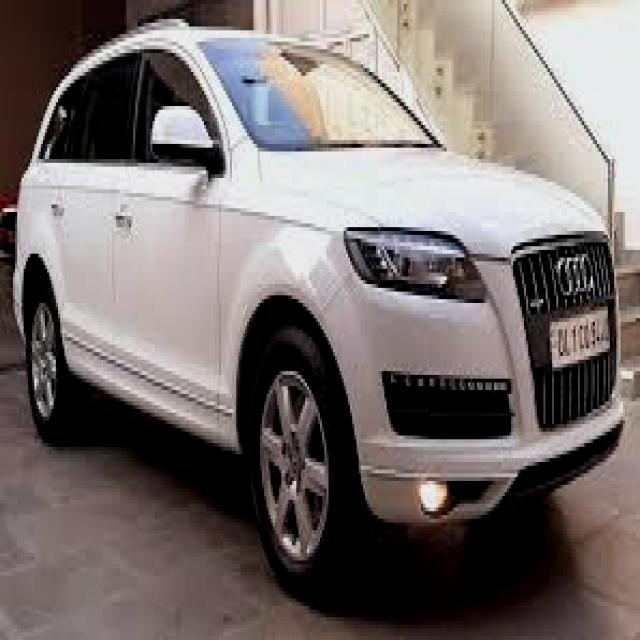SUV: (12, 19, 623, 598)
